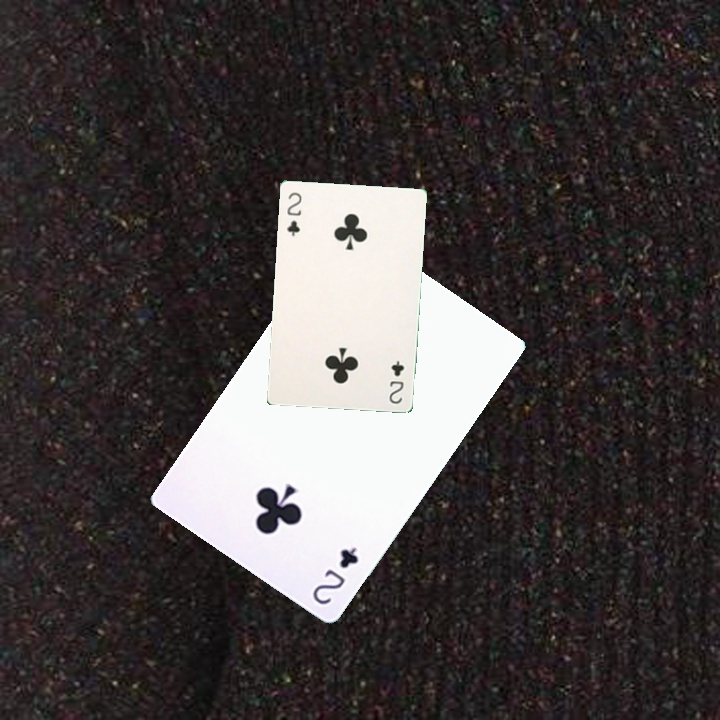2c: (308, 543, 361, 608), (385, 357, 407, 406), (283, 188, 304, 239)
